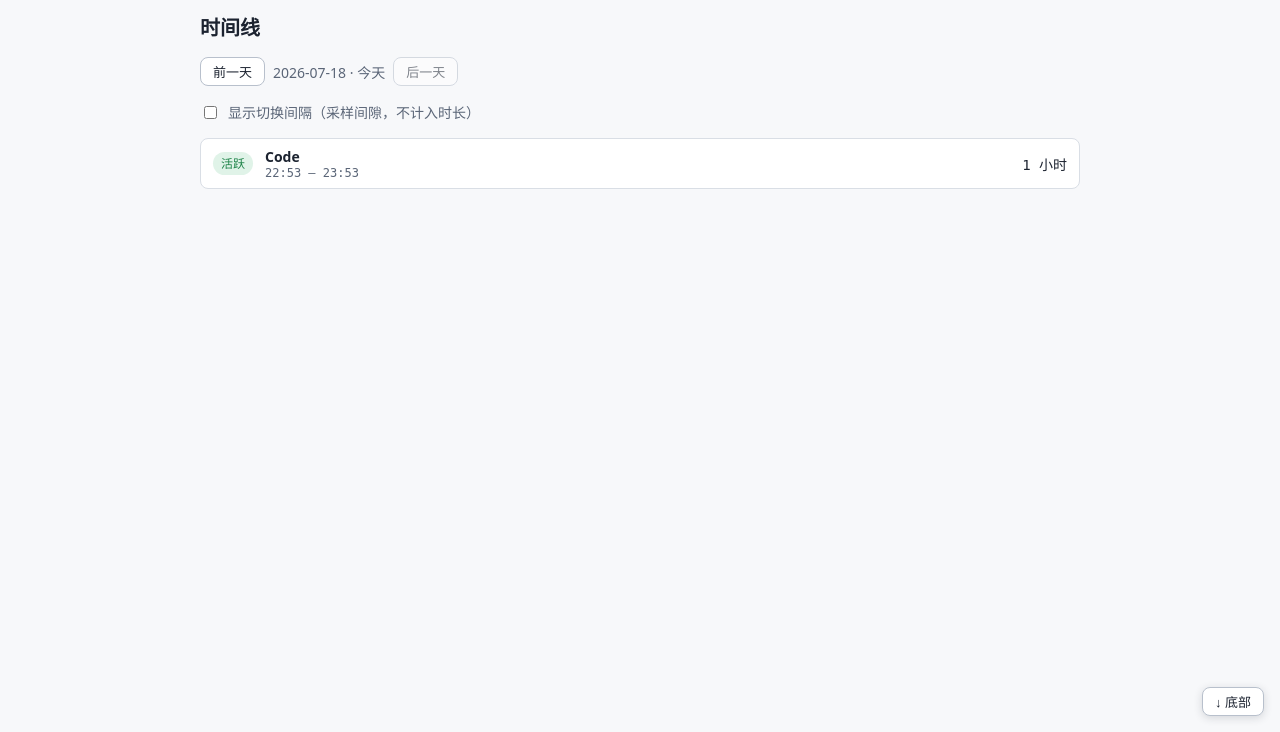
Test: Timeline 页面 › 切换日期后查询失败：进入错误四态，不得保留旧日期内容
Expected: the text "Code" is shown, [265,147,300,166]
Click the button "前一天": (232,72) [200,57,265,86]
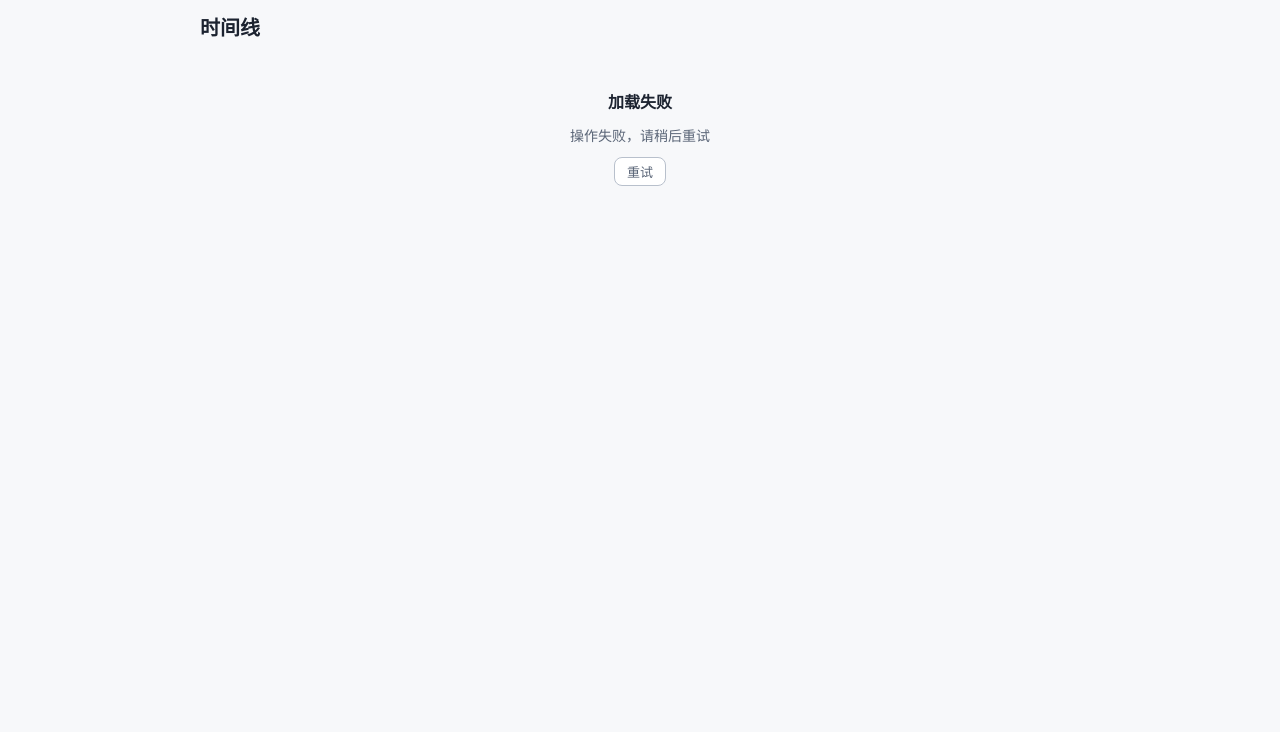
Result: the message "加载失败 操作失败，请稍后重试 重试" is shown at [570,91,710,186]
Result: the text "Code" is gone
Result: the button "重试" is shown at [614,157,666,186]
